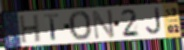2: (119, 8, 140, 38)
H: (19, 13, 42, 45)
J: (145, 6, 162, 36)
N: (91, 8, 116, 41)
O: (67, 10, 93, 42)
T: (43, 13, 61, 42)
